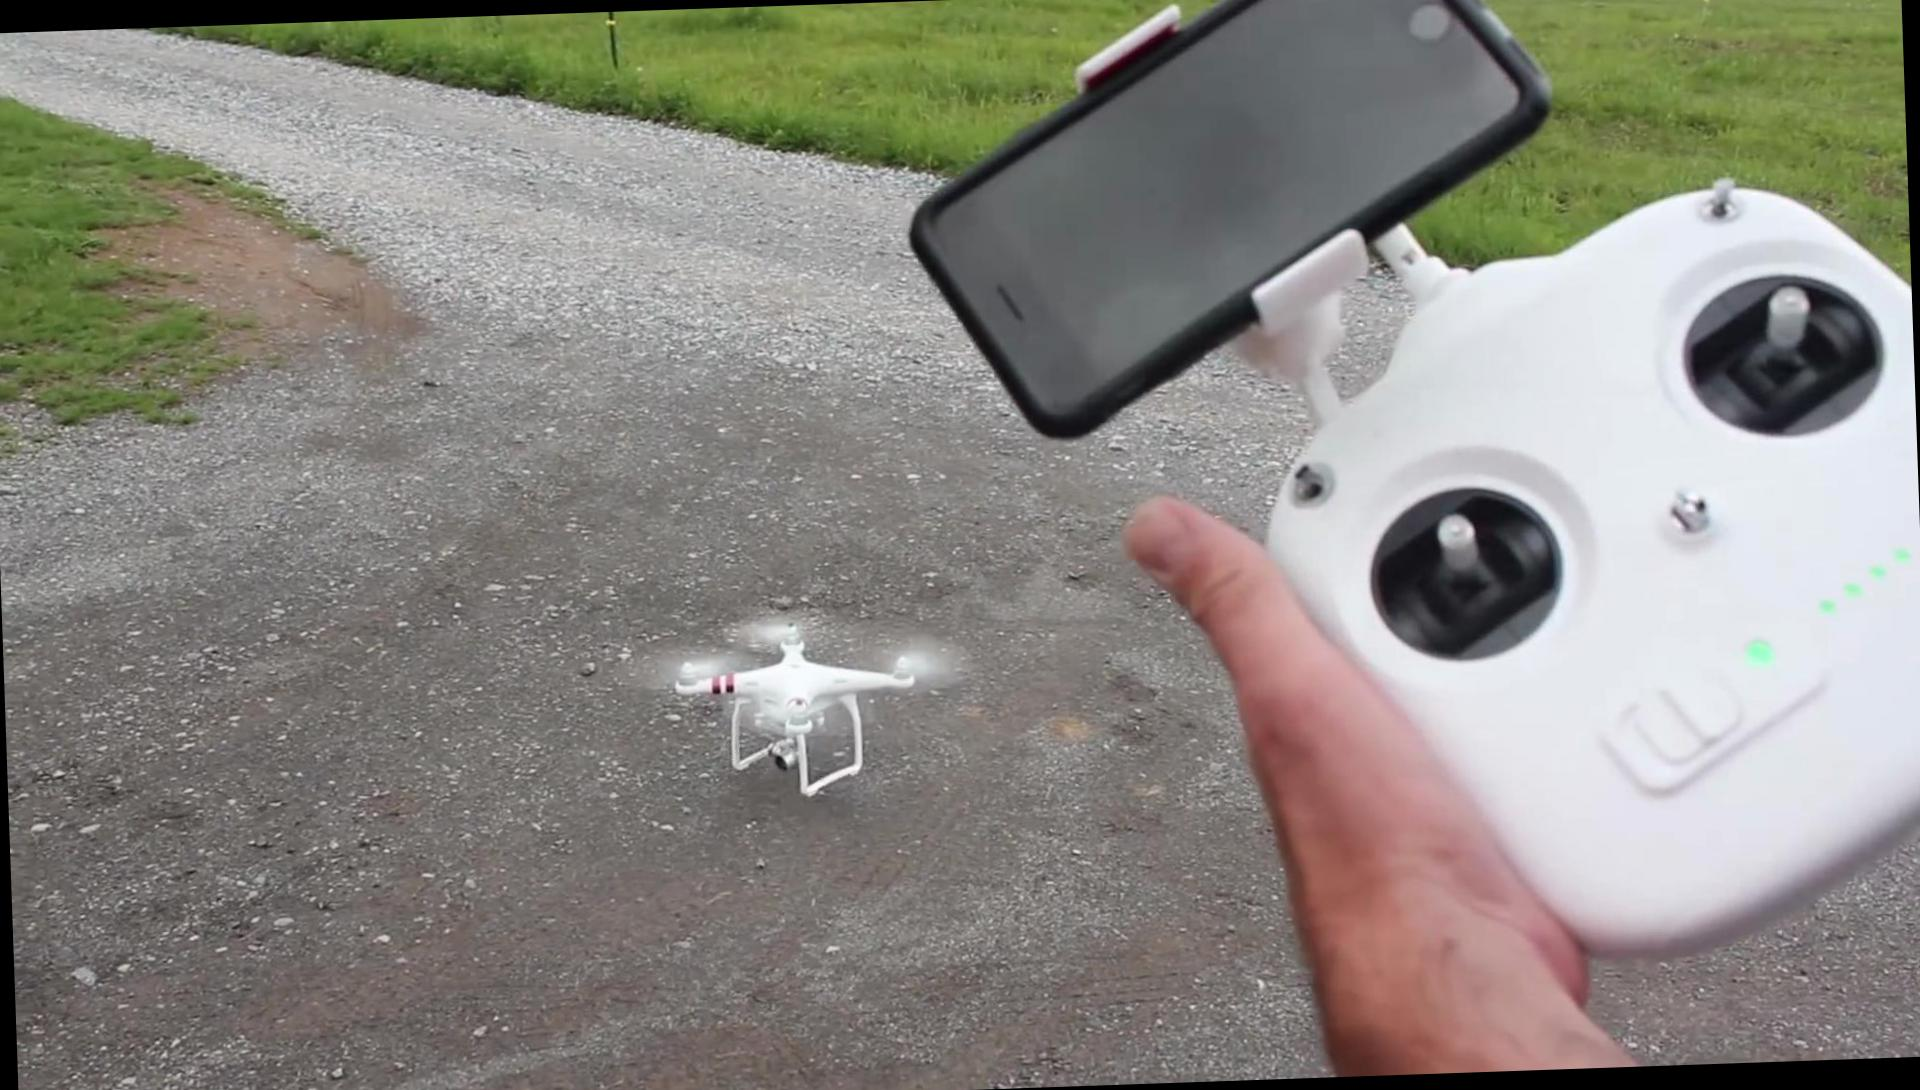drone: (664, 606, 930, 806)
